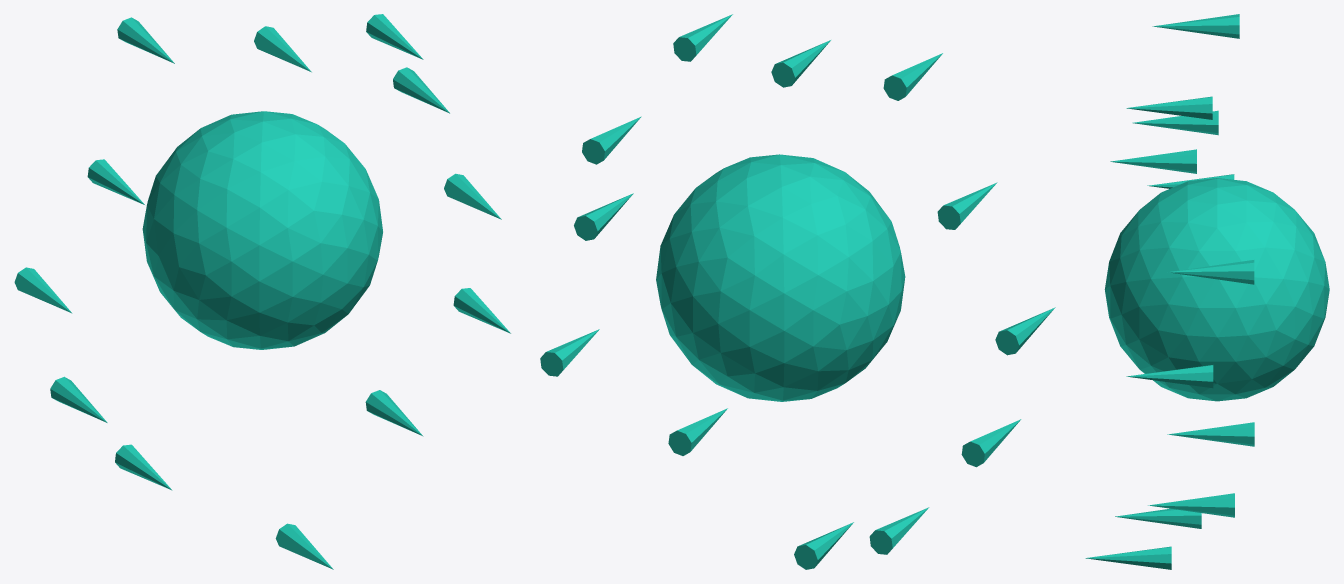
The model's file is nature_155.glb.
The picture shows the model from 3 angles, left to right: view 1: azimuth 30°, elevation 25°; view 2: azimuth 150°, elevation 25°; view 3: azimuth 270°, elevation 25°; orthographic projection. The views are drawn at different scales.
Visible parts, largest first — view 1: world; view 2: world; view 3: world.
Boxes of the visible parts, x1,y1,x2,y2 form: world: [14, 14, 510, 569]; world: [540, 14, 1055, 569]; world: [1085, 14, 1329, 569].
Bounding box in the file's own units: 1.99 × 2.2 × 0.9822.
